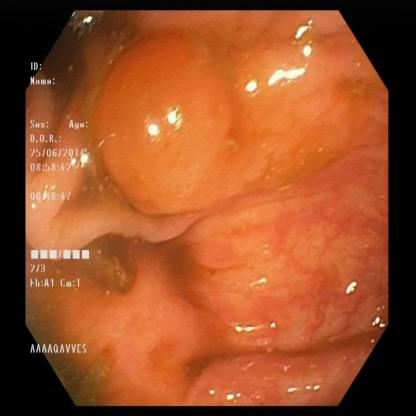Labels: (28, 60, 110, 360)
Polyps: (113, 64, 273, 222)
